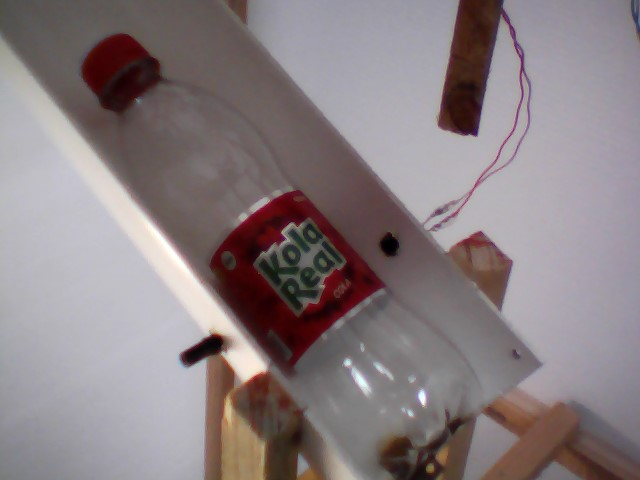plastico: (76, 19, 499, 480)
